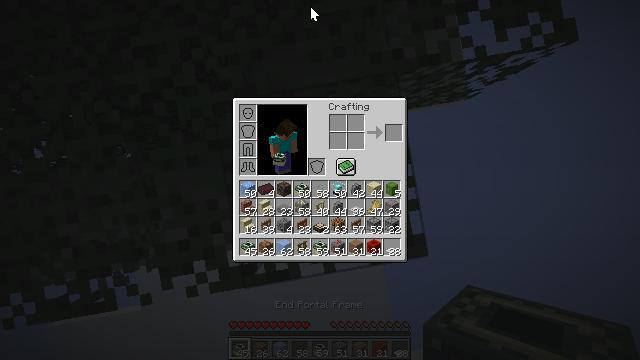cursor: (6, 310, 22, 320)
